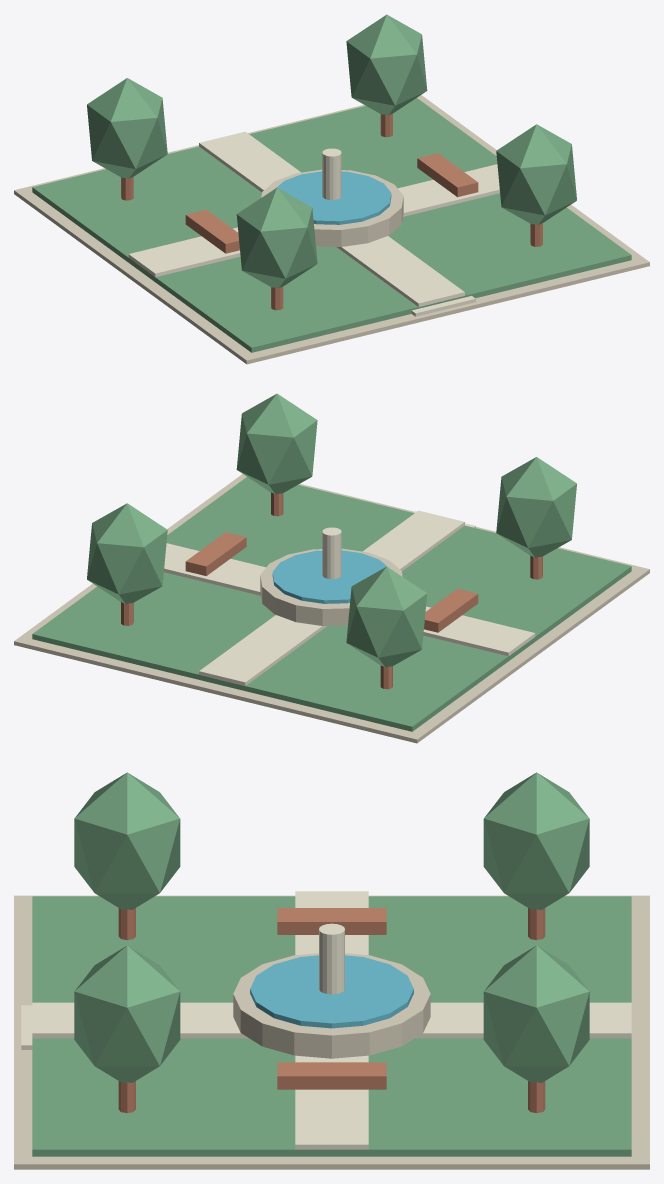
Rendered from civic_park.glb.
The picture shows the model from 3 angles, top to bottom: view 1: azimuth 30°, elevation 25°; view 2: azimuth 150°, elevation 25°; view 3: azimuth 270°, elevation 25°; orthographic projection. The views are drawn at different scales.
Parts seen in each view (by area): view 1: Garden lawn, Paved civic lot.008, Gravel walk, Icosphere.002, Icosphere.003, Icosphere.005, Icosphere.004, Gravel walk.001, Fountain water, Fountain basin, Park bench.001, Park bench (+1 smaller); view 2: Garden lawn, Paved civic lot.008, Gravel walk, Icosphere.003, Icosphere.004, Icosphere.005, Icosphere.002, Gravel walk.001, Fountain water, Fountain basin, Park bench.001, Park bench (+1 smaller); view 3: Garden lawn, Paved civic lot.008, Icosphere.002, Icosphere.003, Icosphere.004, Icosphere.005, Fountain water, Fountain basin, Gravel walk, Gravel walk.001, Park bench.001, Park bench (+1 smaller).
Boxes of the visible parts, <box> form: Garden lawn: <box>32,98,631,352</box>; Paved civic lot.008: <box>14,95,649,364</box>; Gravel walk: <box>199,131,464,306</box>; Icosphere.002: <box>236,187,317,288</box>; Icosphere.003: <box>346,14,427,115</box>; Icosphere.005: <box>496,124,576,225</box>; Icosphere.004: <box>87,78,167,178</box>; Gravel walk.001: <box>128,164,499,277</box>; Fountain water: <box>275,171,391,224</box>; Fountain basin: <box>261,169,403,246</box>; Park bench.001: <box>417,153,478,197</box>; Park bench: <box>185,209,239,253</box>; Garden lawn: <box>32,477,631,731</box>; Paved civic lot.008: <box>14,474,649,743</box>; Gravel walk: <box>199,510,464,685</box>; Icosphere.003: <box>87,503,167,604</box>; Icosphere.004: <box>346,566,427,667</box>; Icosphere.005: <box>236,393,317,494</box>; Icosphere.002: <box>496,457,576,557</box>; Gravel walk.001: <box>164,543,535,656</box>; Fountain water: <box>272,550,388,603</box>; Fountain basin: <box>260,548,402,625</box>; Park bench.001: <box>185,532,246,576</box>; Park bench: <box>424,588,478,632</box>; Garden lawn: <box>32,896,631,1156</box>; Paved civic lot.008: <box>14,895,649,1169</box>; Icosphere.002: <box>74,772,180,909</box>; Icosphere.003: <box>483,945,589,1082</box>; Icosphere.004: <box>483,772,589,909</box>; Icosphere.005: <box>74,945,180,1082</box>; Fountain water: <box>250,955,413,1028</box>; Fountain basin: <box>233,953,430,1058</box>; Gravel walk: <box>32,1002,631,1038</box>; Gravel walk.001: <box>295,891,368,1149</box>; Park bench.001: <box>277,1062,386,1089</box>; Park bench: <box>277,908,386,934</box>.
Bounding box in the file's own units: 8.7 × 2.66 × 8.7.
